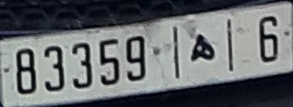3: (43, 45, 66, 93), (71, 41, 94, 89)
5: (98, 38, 121, 86)
6: (257, 15, 280, 64)
8: (14, 46, 39, 95)
9: (124, 35, 148, 83)
h: (186, 31, 218, 64)
